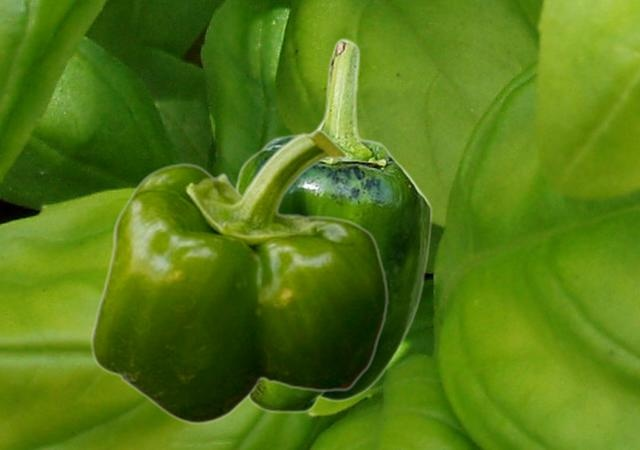bell_pepper: (90, 129, 387, 424), (233, 37, 431, 413)
